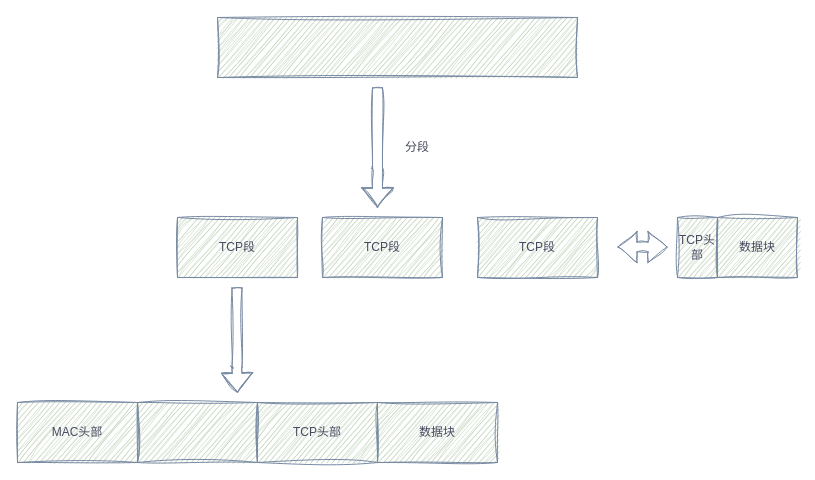
Image size: 815x480. Some labels were removed from this diagram. The centre of each missing label's shape, as x and y in pixels:
"IP头部" belongs at (197,432).
"应用层数据" belongs at (397,47).
